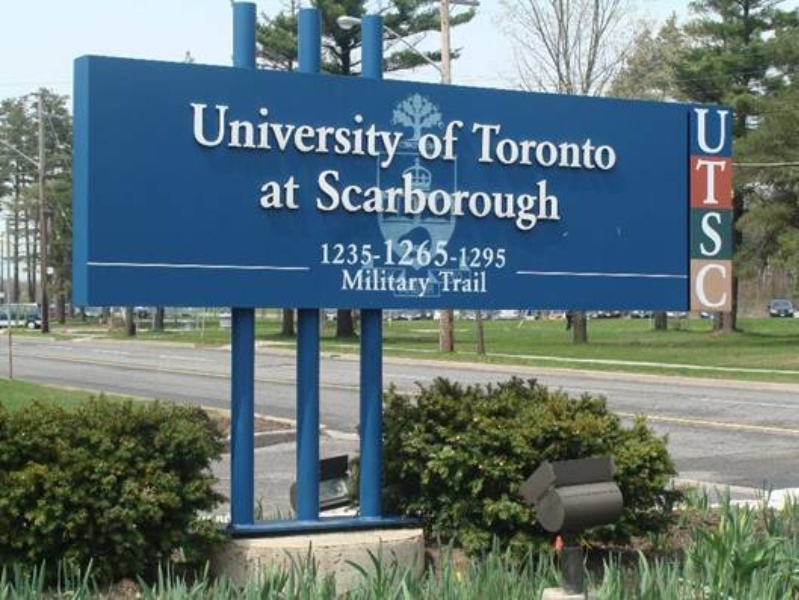text: (705, 105, 720, 312), (694, 105, 704, 312), (721, 105, 730, 312), (545, 167, 561, 235), (321, 167, 336, 235), (337, 167, 352, 235), (353, 167, 368, 235), (369, 167, 384, 235), (385, 167, 400, 235), (401, 167, 416, 235), (417, 167, 432, 235), (433, 167, 448, 235), (449, 167, 464, 235), (465, 167, 480, 235), (481, 167, 496, 235), (497, 167, 512, 235), (513, 167, 528, 235), (529, 167, 544, 235), (193, 102, 208, 170), (209, 102, 224, 170), (225, 102, 240, 170), (241, 102, 256, 170), (257, 102, 272, 170), (273, 102, 288, 170), (289, 102, 304, 170), (305, 102, 320, 170), (321, 102, 336, 170), (337, 102, 352, 170), (353, 102, 368, 170), (369, 102, 384, 170), (385, 102, 400, 170), (481, 120, 496, 173), (497, 120, 512, 173), (513, 120, 528, 173), (529, 120, 544, 173), (545, 120, 560, 173), (561, 120, 576, 173), (577, 120, 592, 173), (593, 120, 608, 173), (310, 167, 320, 235), (417, 118, 432, 162), (433, 118, 448, 162), (609, 120, 621, 173), (449, 118, 463, 162), (469, 120, 480, 173), (257, 176, 272, 212), (273, 176, 288, 212), (289, 176, 303, 212), (321, 238, 336, 270), (337, 238, 352, 270), (353, 238, 368, 270), (369, 238, 384, 270), (385, 238, 400, 270), (401, 238, 416, 270), (417, 238, 432, 270), (433, 238, 448, 270), (449, 238, 464, 270), (465, 238, 480, 270), (481, 238, 496, 270), (353, 266, 368, 298), (369, 266, 384, 298), (385, 266, 400, 298), (401, 266, 416, 298), (417, 266, 432, 298), (497, 238, 511, 270), (449, 268, 464, 294), (465, 268, 480, 294), (343, 266, 352, 298), (437, 268, 448, 294), (481, 268, 490, 294), (189, 102, 192, 170), (401, 102, 404, 170), (433, 266, 434, 298)
